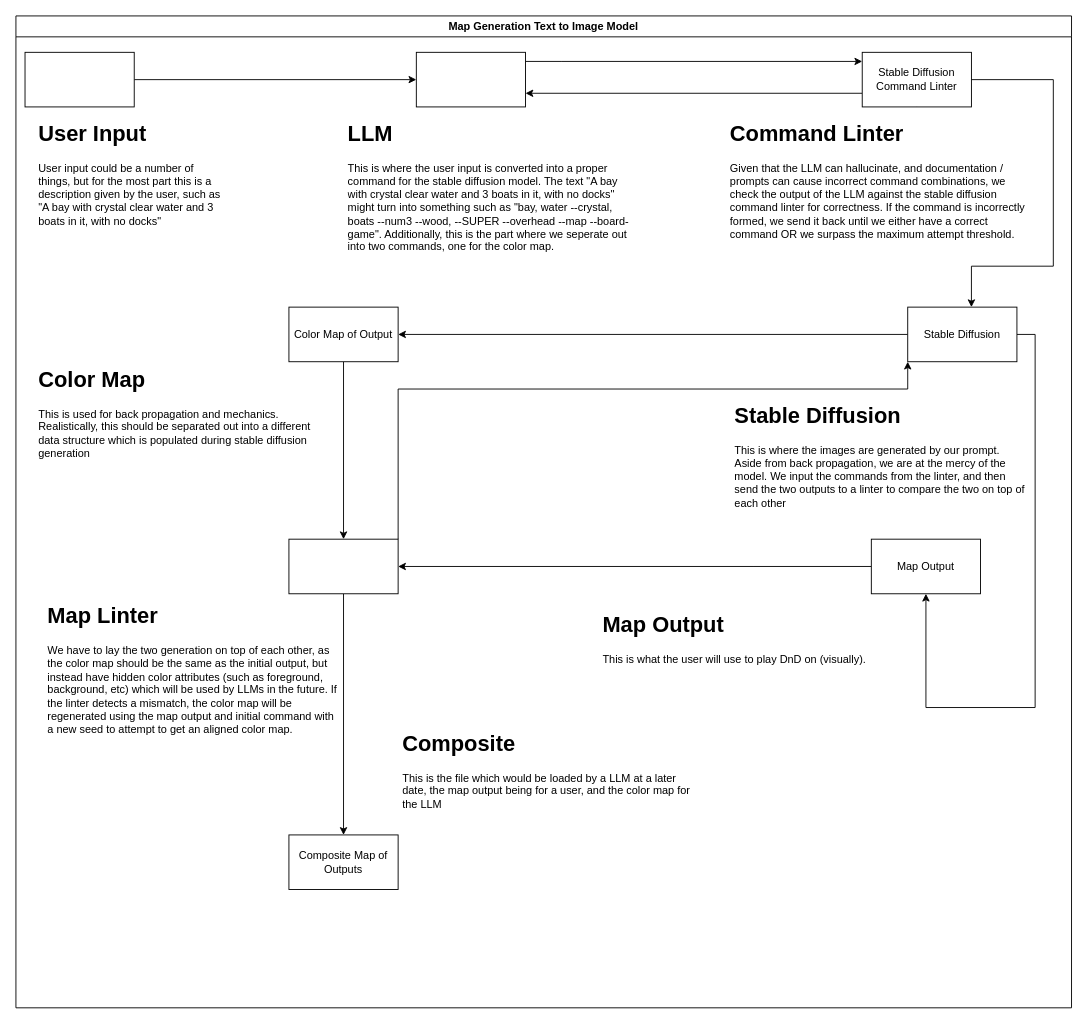
Some shapes in this 1087 by 1024 pixel diagram are drawn without their labels. The centre of each missing label's shape, as x and y in pixels:
"2 Layer Map Linter" goes at (343,566).
"LLM Input to Command fxn" goes at (470,79).
"User Input" goes at (79,79).
